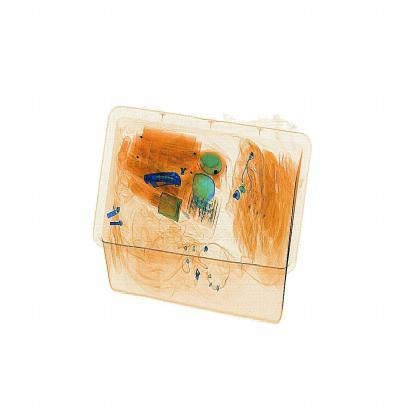knife: (139, 166, 189, 196)
